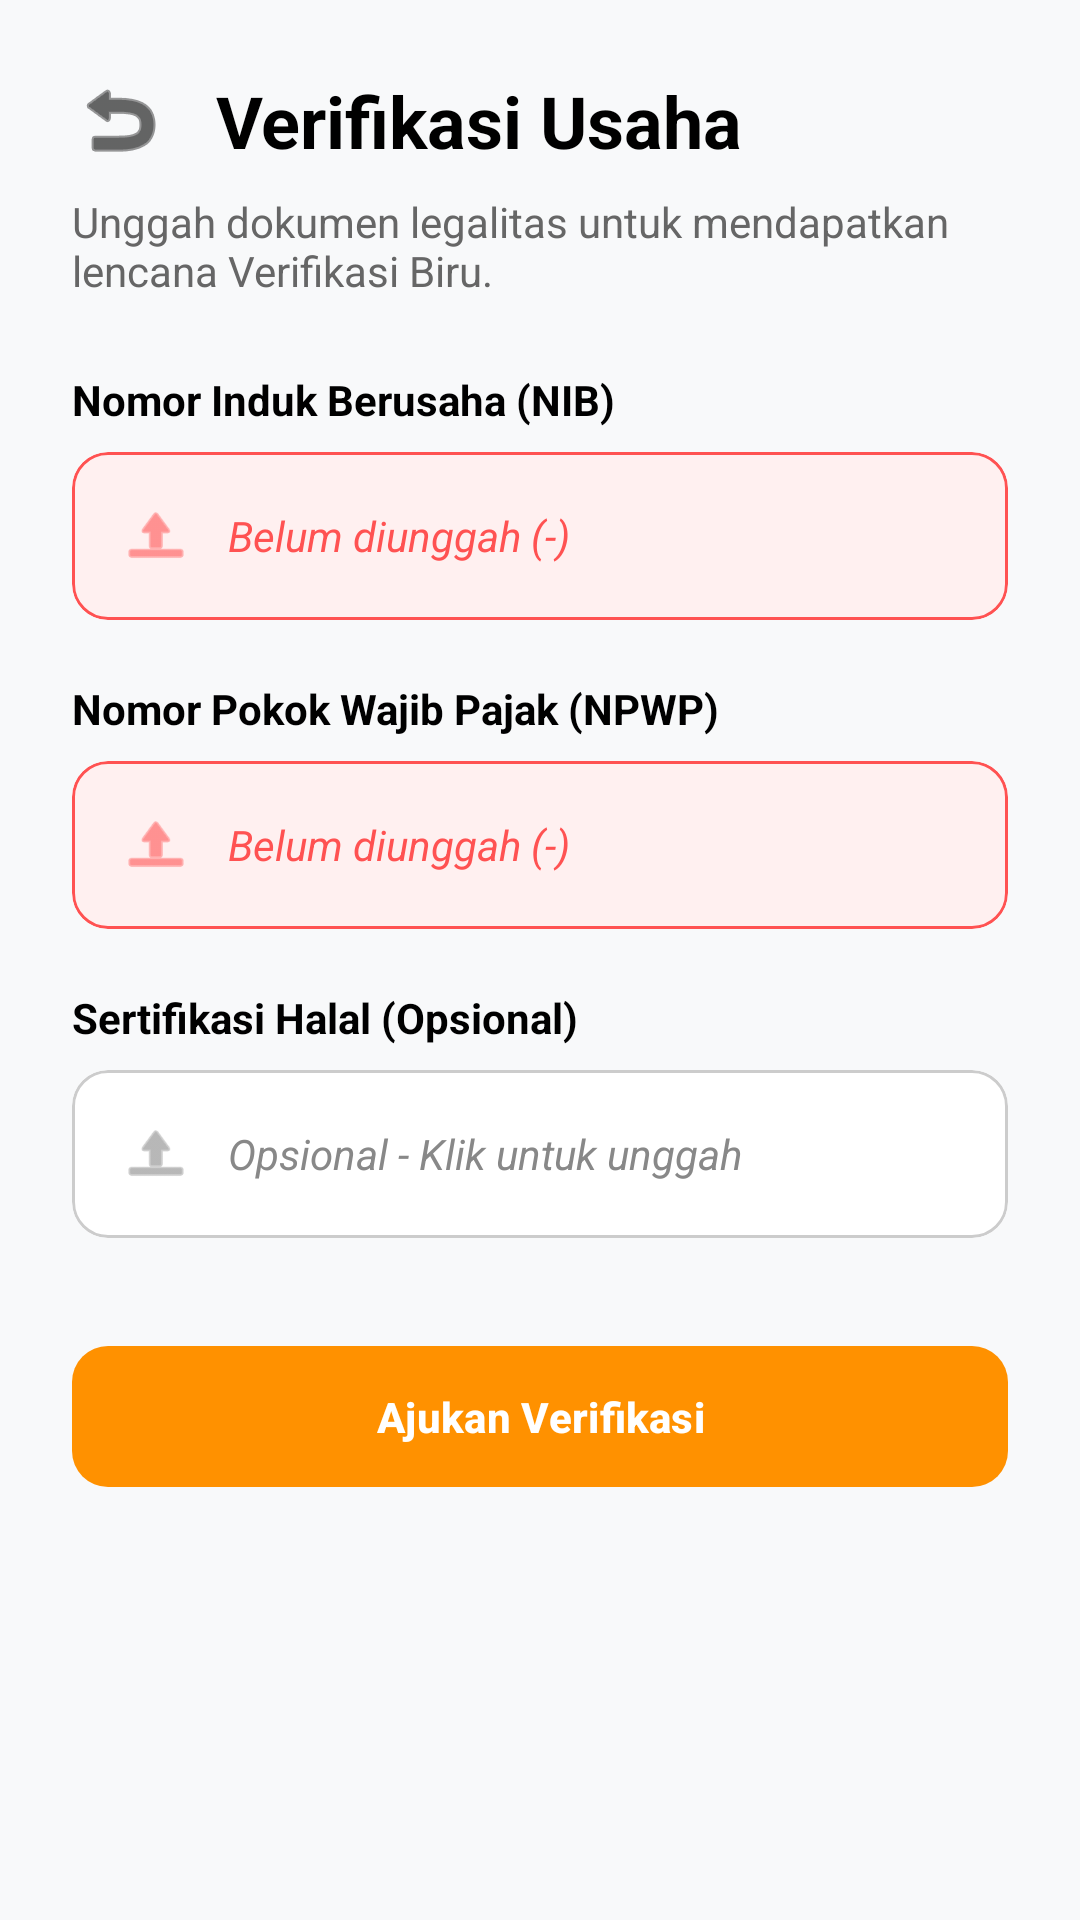

Screen size 1080px x 1920px. Icon name, then its center in pixels as (x=x, y=y):
revert: (x=121, y=120)
upload: (x=156, y=535), (x=156, y=844), (x=156, y=1153)
